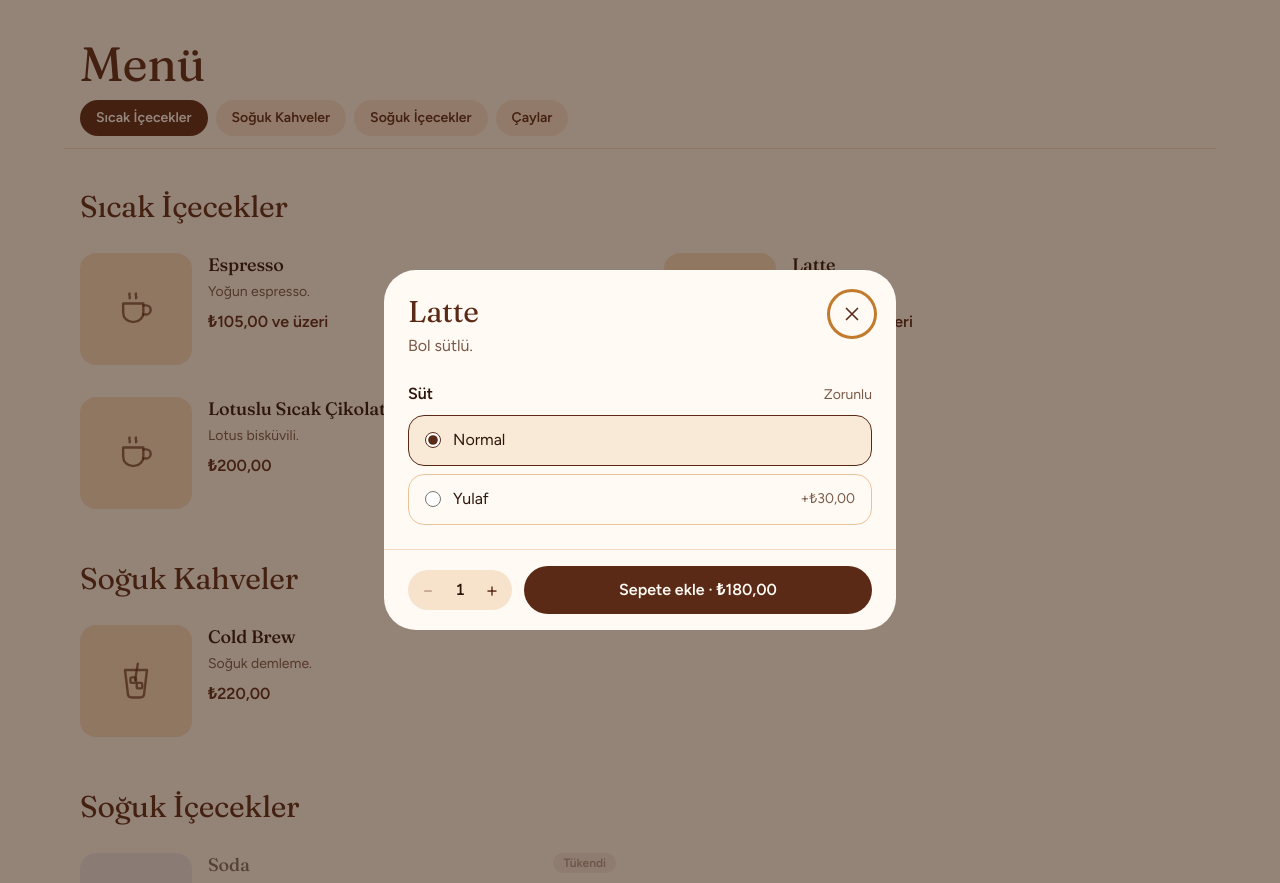
Test case: MenuPage add to cart › announces the item was added
The width and height of the screenshot is (1280, 883).
Click the button "Sepete ekle · ₺180,00".
click(698, 590)  # box [524,566,872,614]
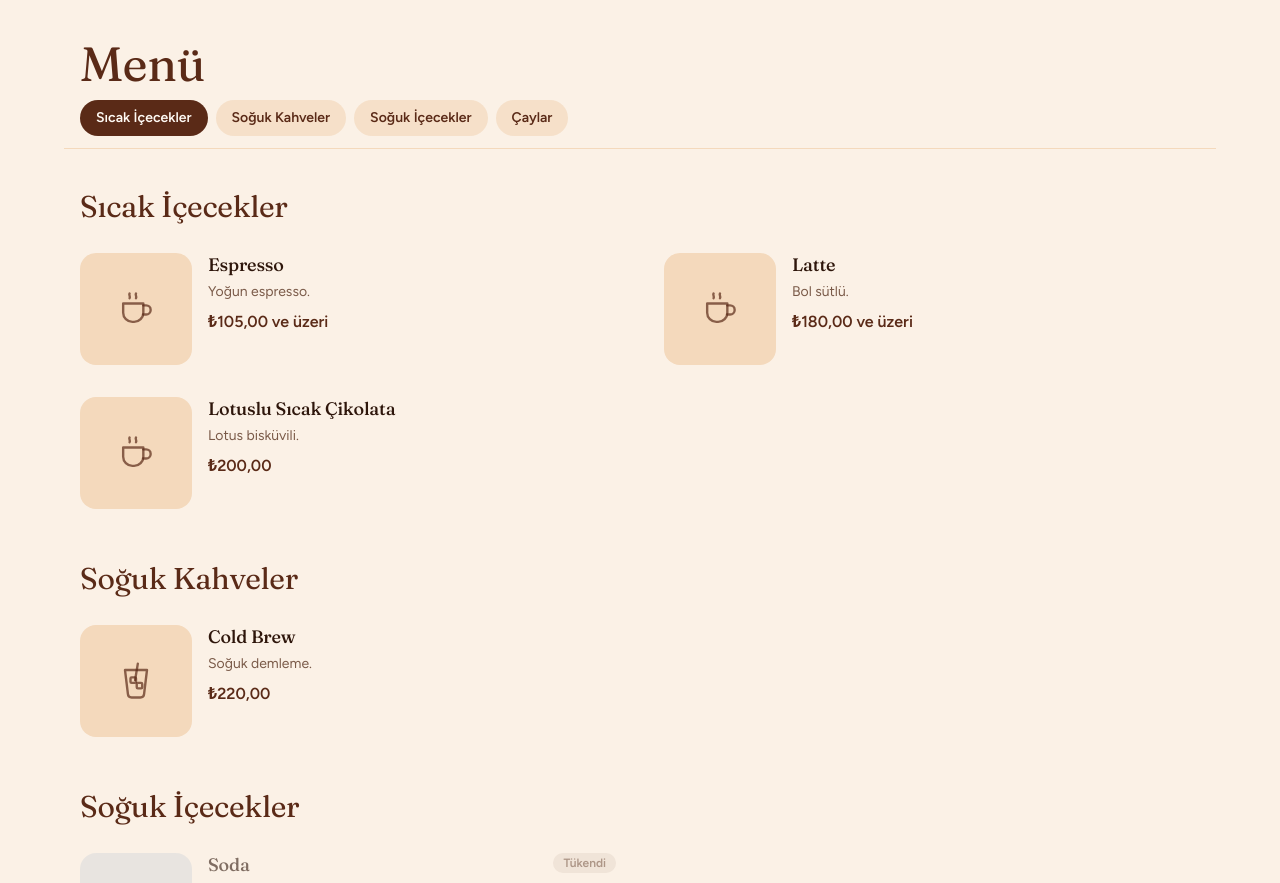
Check: the dialog is gone
